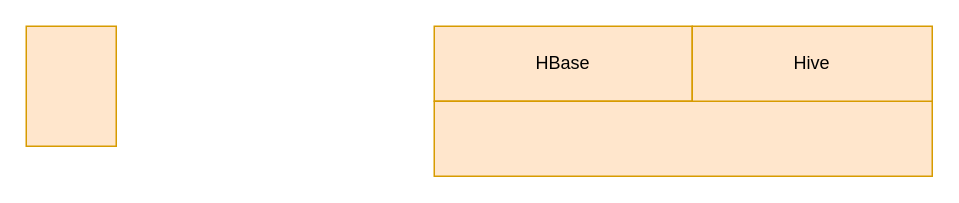
Some shapes in this 959 by 203 pixel diagram are drawn without their labels. Each missing label, with the box of its shape:
HDFS: (433, 100, 932, 176)
Kafka: (25, 25, 116, 146)
